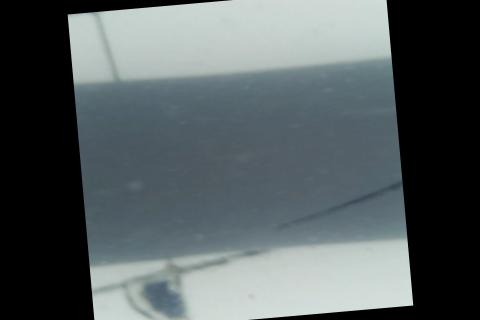keretakan: (265, 178, 406, 234)
